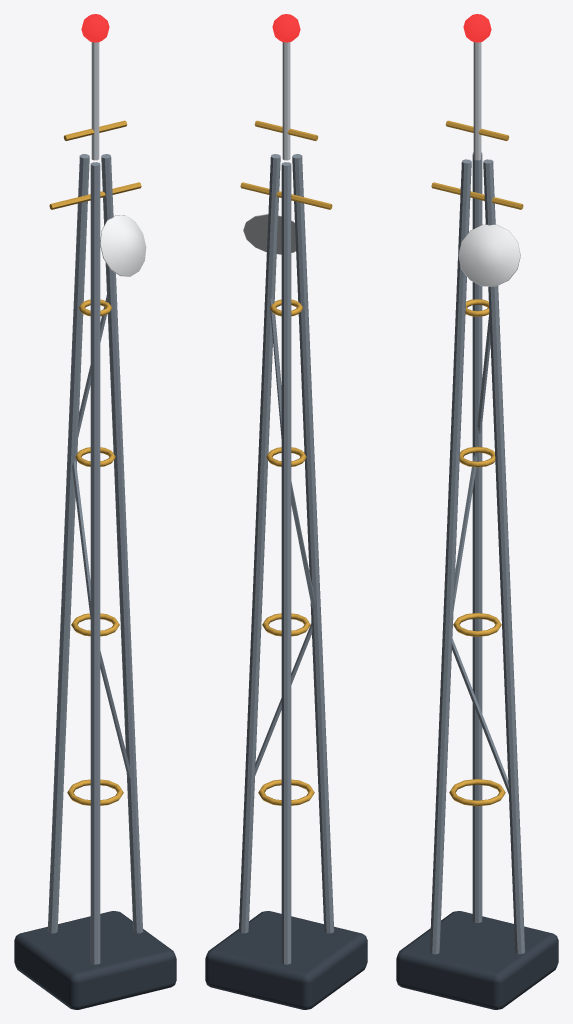
File: antenna.glb
3 renders of one model, left to right at view 1: azimuth 30°, elevation 25°; view 2: azimuth 150°, elevation 25°; view 3: azimuth 330°, elevation 25°, orthographic.
Visible parts, largest first — view 1: antenna_body; view 2: antenna_body; view 3: antenna_body.
Boxes of the visible parts, bbox=[...] form: antenna_body: bbox=[14, 14, 176, 1009]; antenna_body: bbox=[205, 14, 367, 1009]; antenna_body: bbox=[396, 14, 558, 1009].
Bounding box in the file's own units: 0.6 × 5.17 × 0.6.
